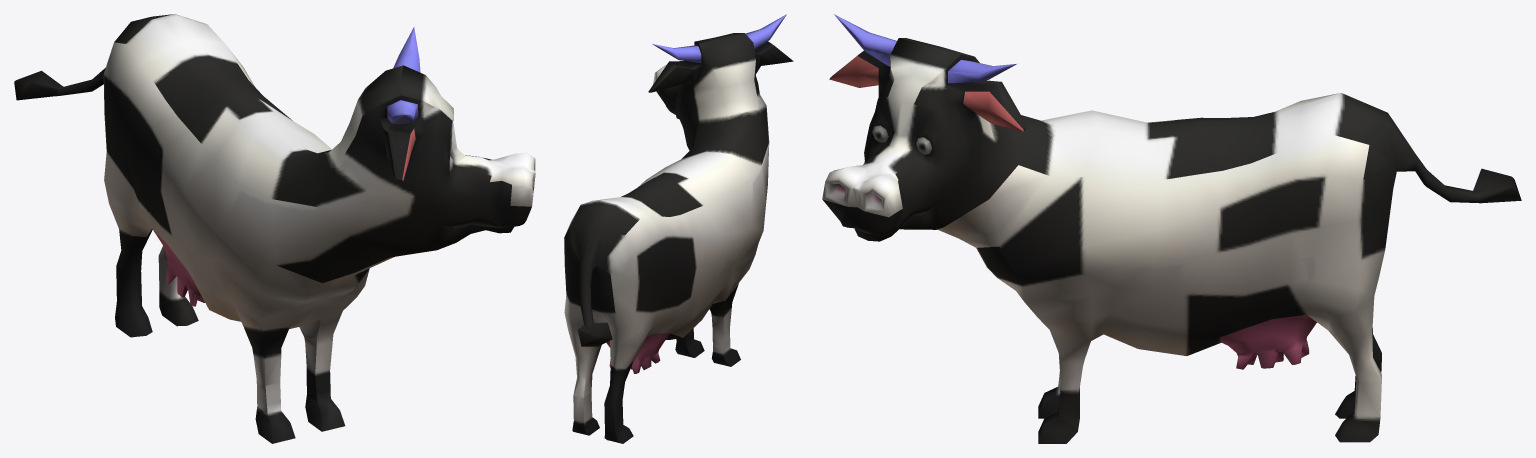
Rendered from cow.glb.
The picture shows the model from 3 angles, left to right: view 1: azimuth 30°, elevation 25°; view 2: azimuth 150°, elevation 25°; view 3: azimuth 270°, elevation 25°; orthographic projection. The views are drawn at different scales.
Visible parts, largest first — view 1: Cow; view 2: Cow; view 3: Cow.
Part boxes in pixels (x1,y1,x2,y2): Cow: [14, 14, 535, 443]; Cow: [564, 14, 793, 443]; Cow: [822, 14, 1521, 443].
Size of the model in its own units: 0.0399 by 0.0645 by 0.0996.
Materials: 1 (1 with a texture image).
